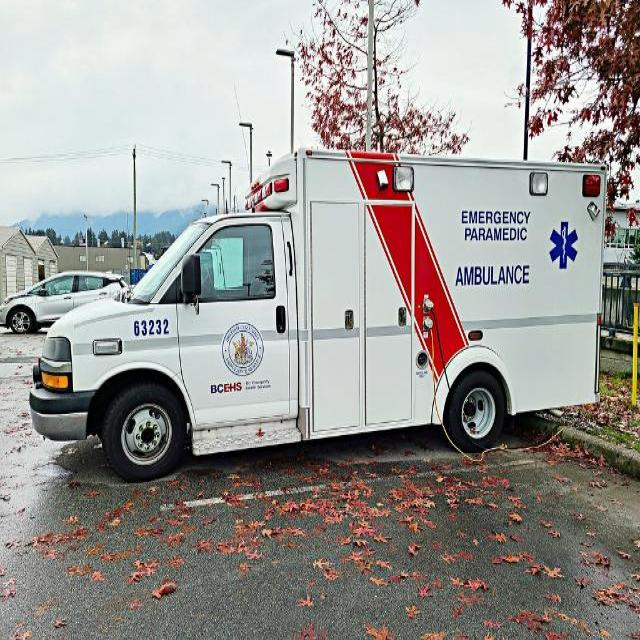emergency-vehicle: (29, 147, 606, 480)
